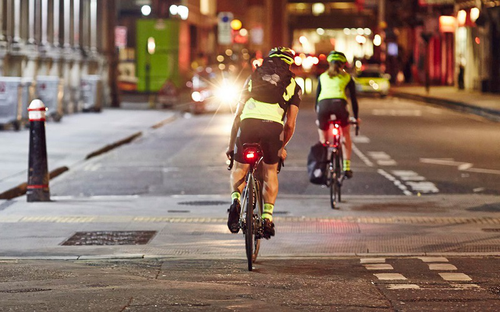bikerider: (205, 30, 306, 274), (303, 46, 374, 211)
